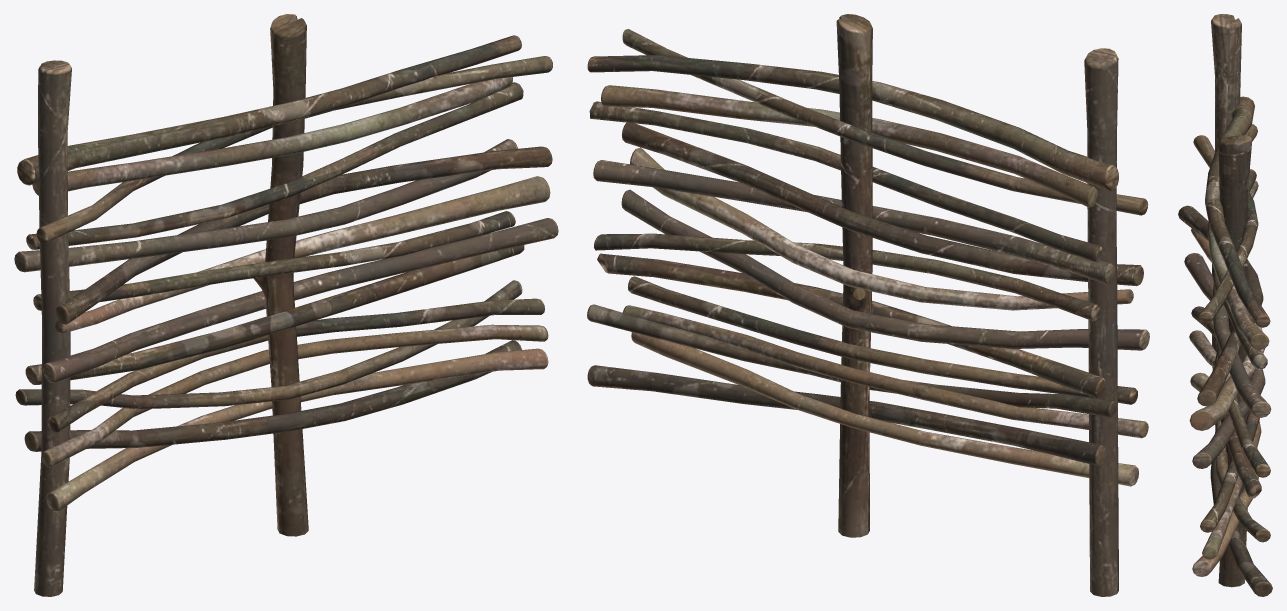
3 renders of one model, left to right at view 1: azimuth 30°, elevation 25°; view 2: azimuth 150°, elevation 25°; view 3: azimuth 270°, elevation 25°, orthographic. The views are drawn at different scales.
Visible parts, largest first — view 1: SM_BB_T1_Fence_Hedge_Middle_LOD0; view 2: SM_BB_T1_Fence_Hedge_Middle_LOD0; view 3: SM_BB_T1_Fence_Hedge_Middle_LOD0.
Boxes of the visible parts, bbox=[...] form: SM_BB_T1_Fence_Hedge_Middle_LOD0: bbox=[14, 14, 558, 596]; SM_BB_T1_Fence_Hedge_Middle_LOD0: bbox=[587, 14, 1149, 596]; SM_BB_T1_Fence_Hedge_Middle_LOD0: bbox=[1178, 14, 1272, 596].
Bounding box in the file's own units: 1.57 × 1.54 × 0.2867.
Materials: 1 (1 with a texture image).
